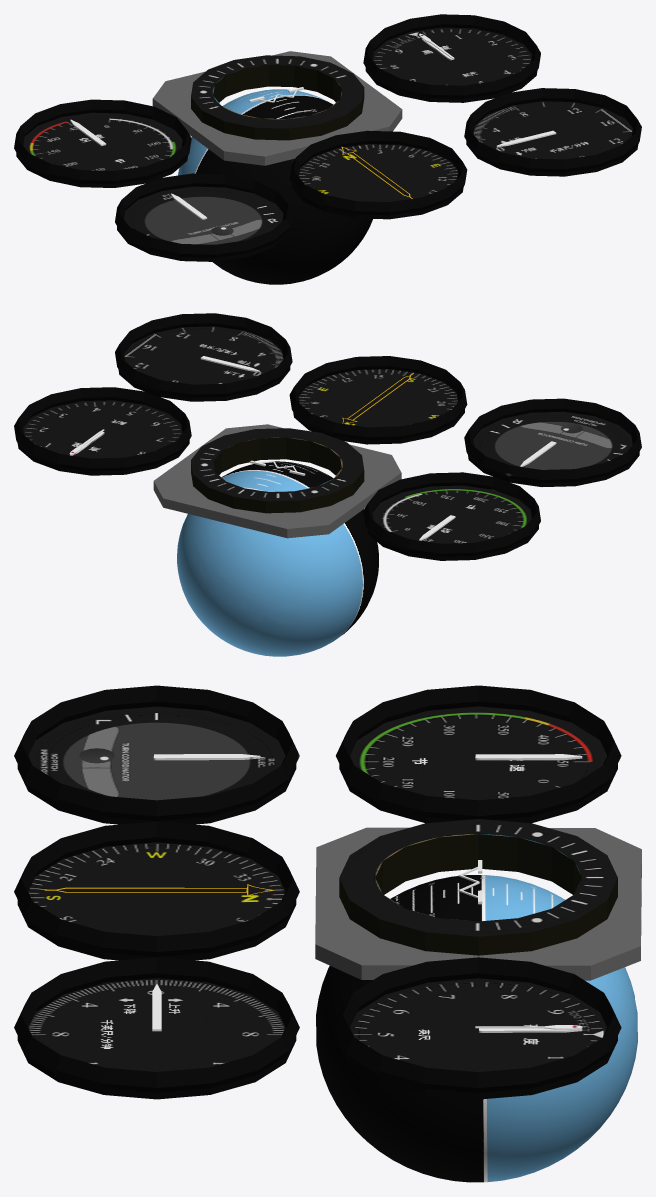
The model's file is indicatorBody2.fbx.
3 renders of one model, top to bottom at view 1: azimuth 30°, elevation 25°; view 2: azimuth 150°, elevation 25°; view 3: azimuth 270°, elevation 25°, orthographic. The views are drawn at different scales.
Parts seen in each view (by area): view 1: CPS_case, AS_case, ALT_case, VSI_case, TRN_case, AHI_ball, AHI_case, AHI_outercase; view 2: AHI_ball, CPS_case, AS_case, ALT_case, VSI_case, TRN_case, AHI_case, AHI_outercase; view 3: AHI_ball, CPS_case, VSI_case, ALT_case, AS_case, TRN_case, AHI_case, AHI_outercase, AS_pointer.
Boxes of the visible parts, left/top/right/bottom form: CPS_case: left=289, top=130, right=467, bottom=219; AS_case: left=14, top=99, right=191, bottom=187; ALT_case: left=363, top=14, right=540, bottom=102; VSI_case: left=464, top=88, right=641, bottom=176; TRN_case: left=115, top=173, right=292, bottom=261; AHI_ball: left=178, top=89, right=372, bottom=284; AHI_case: left=191, top=55, right=364, bottom=140; AHI_outercase: left=152, top=51, right=402, bottom=165; AHI_ball: left=177, top=461, right=378, bottom=656; CPS_case: left=289, top=356, right=467, bottom=444; AS_case: left=363, top=472, right=540, bottom=560; ALT_case: left=14, top=387, right=191, bottom=475; VSI_case: left=115, top=313, right=292, bottom=401; TRN_case: left=464, top=398, right=641, bottom=486; AHI_case: left=191, top=428, right=364, bottom=513; AHI_outercase: left=153, top=424, right=401, bottom=538; AHI_ball: left=316, top=875, right=637, bottom=1182; CPS_case: left=14, top=821, right=299, bottom=960; VSI_case: left=14, top=957, right=299, bottom=1099; ALT_case: left=335, top=957, right=621, bottom=1099; AS_case: left=336, top=685, right=621, bottom=823; TRN_case: left=14, top=685, right=299, bottom=824; AHI_case: left=339, top=819, right=617, bottom=955; AHI_outercase: left=315, top=827, right=641, bottom=980; AS_pointer: left=475, top=754, right=582, bottom=760.
Bounding box in the file's own units: 52 × 17.93 × 35.14.
Materials: 1 (1 with a texture image).
